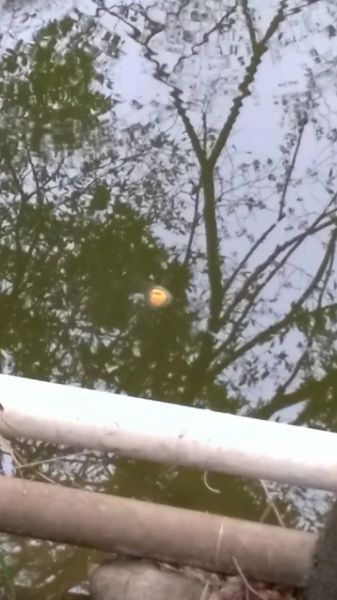eggs: (145, 284, 172, 308)
